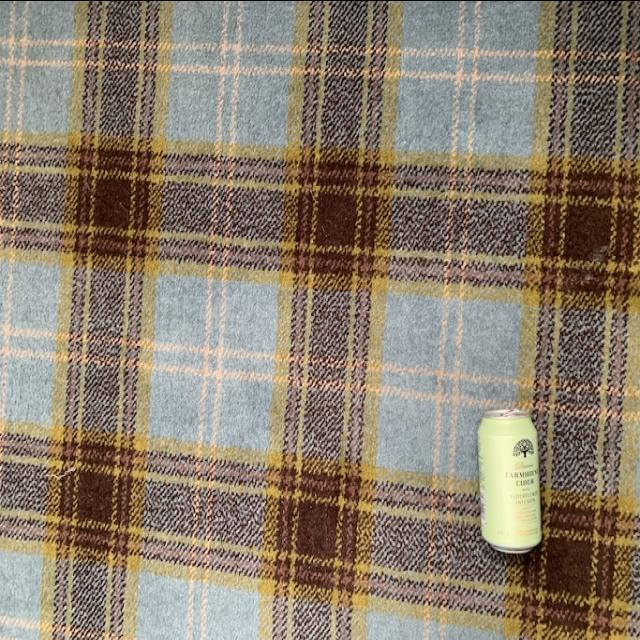litter: (476, 406, 544, 556)
